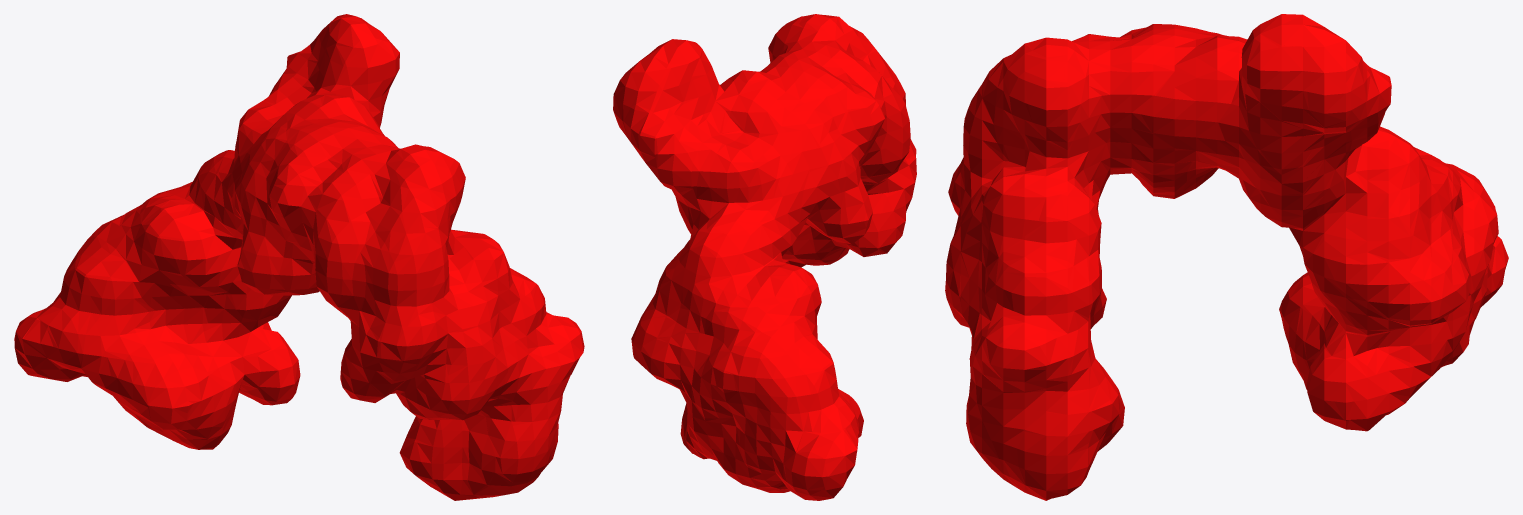
Rendered from gntT_coarse.dae.
3 renders of one model, left to right at view 1: azimuth 30°, elevation 25°; view 2: azimuth 150°, elevation 25°; view 3: azimuth 270°, elevation 25°, orthographic. The views are drawn at different scales.
Parts seen in each view (by area): view 1: gntT; view 2: gntT; view 3: gntT.
Boxes of the visible parts, x1=… form: gntT: x1=14, y1=14, x2=584, y2=500; gntT: x1=613, y1=14, x2=916, y2=500; gntT: x1=945, y1=14, x2=1508, y2=500.
Bounding box in the file's own units: 74.19 × 79.84 × 87.34.
